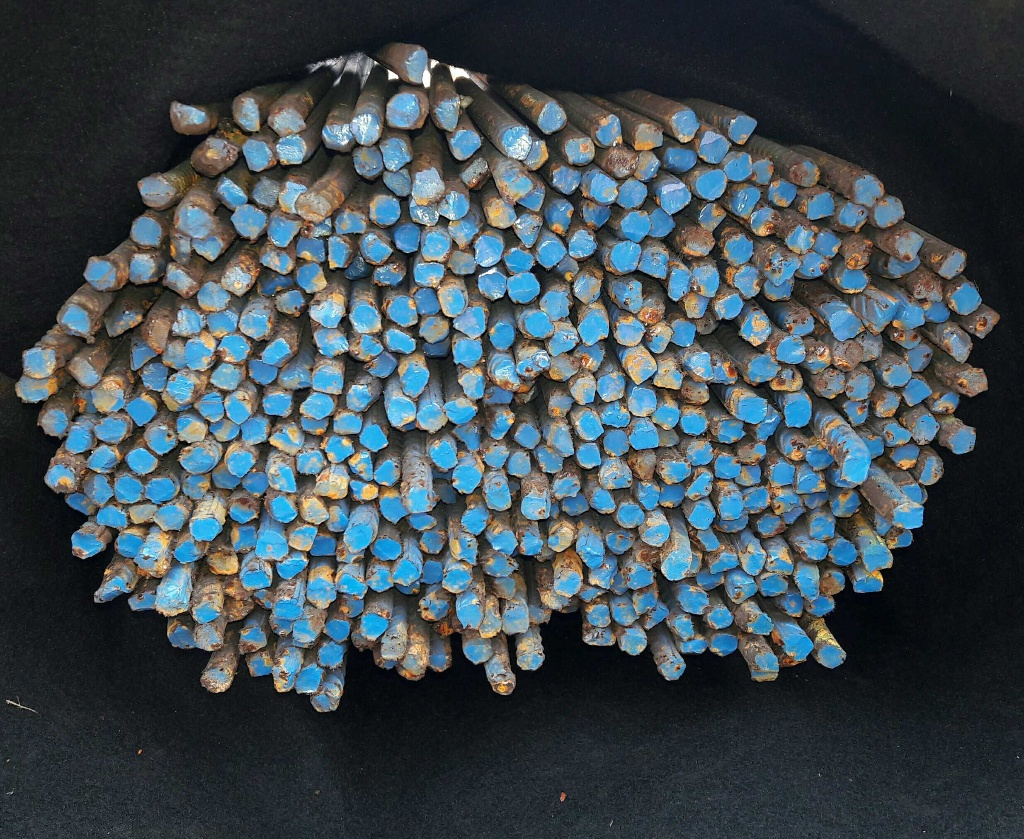dipstick: (189, 137, 236, 175), (56, 303, 92, 339), (170, 100, 206, 134), (412, 169, 445, 206), (138, 174, 176, 206), (232, 205, 267, 239), (766, 250, 801, 284), (175, 204, 211, 237), (575, 311, 609, 345), (268, 213, 301, 247), (164, 264, 197, 298), (386, 94, 419, 128), (584, 170, 617, 204), (105, 308, 144, 336), (15, 375, 58, 400), (399, 361, 428, 398), (547, 322, 579, 355), (215, 177, 246, 211), (268, 108, 305, 136), (293, 192, 330, 220), (698, 131, 730, 163), (243, 140, 276, 171), (359, 232, 392, 263), (740, 311, 771, 344), (21, 347, 55, 377), (380, 137, 410, 171), (843, 235, 873, 269), (867, 299, 897, 333), (309, 299, 344, 328), (516, 349, 551, 378), (91, 382, 123, 413), (179, 442, 211, 473), (460, 158, 491, 190), (853, 174, 884, 206), (844, 368, 875, 400), (680, 227, 714, 256), (232, 96, 260, 131), (314, 327, 349, 355), (85, 258, 116, 289), (607, 146, 638, 177), (677, 584, 708, 615), (831, 339, 862, 370), (82, 474, 112, 506), (453, 307, 485, 337), (323, 123, 355, 153), (546, 199, 573, 234), (482, 551, 518, 577), (271, 424, 302, 454), (369, 195, 400, 225), (450, 130, 481, 160), (696, 169, 726, 200), (734, 266, 764, 297), (764, 545, 795, 575), (949, 284, 980, 314), (256, 531, 288, 560), (830, 311, 862, 340), (515, 213, 543, 246), (276, 135, 306, 165), (130, 217, 160, 247), (387, 296, 417, 326), (68, 357, 99, 386), (353, 143, 382, 174), (409, 198, 440, 227), (486, 200, 517, 229), (563, 136, 594, 165), (622, 210, 651, 241), (876, 196, 905, 227), (197, 282, 229, 310), (145, 425, 177, 453), (45, 465, 77, 493), (438, 191, 470, 219), (640, 247, 668, 279), (803, 341, 831, 373), (746, 354, 779, 381), (145, 319, 171, 353), (184, 340, 213, 370), (420, 592, 449, 622), (509, 273, 539, 302), (617, 178, 646, 208), (661, 183, 690, 213), (166, 374, 197, 402), (224, 392, 252, 423), (474, 235, 502, 266), (351, 114, 379, 145), (611, 241, 639, 272), (957, 368, 988, 396), (206, 310, 238, 337), (217, 336, 249, 363), (374, 259, 406, 286), (504, 127, 531, 159), (260, 248, 293, 274), (299, 393, 333, 418), (349, 335, 383, 360), (138, 549, 167, 578), (437, 287, 466, 316), (540, 291, 569, 320), (628, 355, 657, 384), (660, 551, 689, 580), (783, 633, 812, 662), (872, 388, 901, 417), (261, 339, 291, 367), (157, 587, 187, 615), (301, 494, 329, 524), (350, 305, 380, 333), (449, 220, 479, 248), (451, 466, 481, 494), (538, 241, 568, 269), (750, 208, 780, 236), (816, 369, 844, 399), (895, 231, 923, 261), (943, 331, 971, 361), (279, 182, 306, 213), (221, 267, 252, 294), (71, 531, 102, 558), (501, 175, 532, 202), (594, 114, 621, 145), (770, 488, 801, 515), (663, 147, 696, 172), (436, 94, 458, 131), (313, 366, 342, 394), (388, 397, 416, 426), (538, 103, 566, 132), (729, 116, 757, 145), (724, 235, 753, 263), (786, 224, 814, 253), (938, 250, 966, 279), (127, 398, 157, 425), (317, 470, 347, 497), (323, 436, 353, 463), (380, 495, 407, 525), (616, 282, 643, 312), (902, 344, 932, 371), (126, 448, 157, 474), (366, 351, 397, 377), (522, 311, 553, 337), (668, 268, 692, 301), (173, 308, 201, 336), (66, 426, 94, 454), (228, 449, 256, 477), (308, 579, 336, 607), (268, 465, 296, 493), (575, 412, 603, 440), (732, 188, 760, 216), (840, 201, 868, 229), (831, 490, 859, 518), (297, 264, 326, 291), (269, 496, 298, 523), (419, 315, 448, 342), (453, 339, 482, 366), (422, 232, 449, 261), (554, 568, 581, 597), (583, 199, 610, 228), (814, 230, 841, 259), (739, 397, 768, 424), (727, 576, 756, 603), (177, 416, 207, 442), (229, 497, 259, 523), (343, 525, 373, 551), (405, 488, 435, 514), (327, 237, 353, 267), (335, 208, 365, 234), (489, 410, 515, 440), (671, 111, 697, 141), (692, 266, 718, 296), (129, 253, 154, 284), (201, 667, 232, 692), (190, 517, 222, 541), (770, 368, 803, 391), (197, 393, 224, 421), (88, 446, 116, 473), (114, 476, 142, 503), (597, 373, 624, 401), (553, 166, 580, 194), (725, 152, 752, 180), (616, 319, 644, 346), (777, 336, 805, 363), (629, 388, 656, 416), (903, 379, 931, 406), (806, 443, 834, 470), (947, 426, 975, 453), (239, 313, 268, 339), (130, 340, 156, 369), (415, 262, 444, 288), (504, 246, 533, 272), (451, 535, 477, 564), (521, 494, 550, 520), (577, 539, 603, 568), (634, 151, 660, 180), (863, 544, 892, 570), (890, 442, 919, 468), (211, 463, 241, 488), (208, 550, 238, 575), (445, 399, 475, 424), (385, 328, 415, 353), (549, 427, 574, 457), (600, 402, 630, 427), (647, 323, 672, 353), (794, 538, 828, 560), (94, 418, 126, 441), (600, 465, 632, 488), (430, 440, 457, 467), (418, 404, 445, 431), (485, 483, 512, 510), (461, 508, 488, 535), (699, 203, 726, 230), (769, 180, 796, 207), (743, 487, 770, 514), (114, 532, 142, 558), (289, 525, 317, 551), (337, 572, 365, 598), (360, 425, 388, 451), (414, 286, 440, 314), (634, 122, 662, 148), (756, 513, 784, 539), (841, 456, 867, 484), (210, 364, 239, 389), (790, 161, 819, 186), (687, 352, 712, 381), (752, 652, 777, 681), (242, 566, 272, 590), (395, 222, 419, 252), (524, 141, 548, 171), (661, 459, 691, 483), (406, 48, 427, 82), (153, 506, 184, 529), (892, 503, 923, 526), (245, 650, 272, 676), (479, 273, 506, 299), (551, 353, 578, 379), (481, 441, 508, 467), (569, 230, 595, 257), (689, 503, 715, 530), (275, 288, 303, 313), (230, 527, 258, 552), (765, 276, 793, 301), (913, 415, 938, 443), (143, 362, 167, 391), (193, 625, 222, 649), (238, 627, 267, 651), (293, 617, 322, 641), (262, 393, 291, 417), (491, 322, 515, 351), (882, 362, 911, 386), (210, 418, 240, 441), (574, 276, 600, 302), (688, 472, 714, 498), (787, 311, 813, 337), (168, 623, 195, 648), (490, 530, 517, 555), (553, 472, 580, 497), (785, 400, 810, 427), (617, 503, 644, 528), (249, 359, 277, 383), (297, 238, 325, 262), (587, 564, 615, 588), (896, 306, 924, 330), (919, 456, 943, 484), (145, 478, 174, 501), (97, 507, 126, 530), (310, 688, 339, 711), (442, 569, 471, 592), (350, 452, 373, 481), (805, 593, 834, 616), (583, 626, 616, 646), (43, 409, 68, 435), (362, 614, 388, 639), (367, 568, 393, 593), (375, 459, 400, 485), (345, 385, 371, 410), (571, 378, 596, 404), (649, 209, 674, 235), (808, 192, 833, 218), (740, 549, 765, 575), (809, 516, 835, 541), (830, 540, 856, 565), (461, 372, 485, 399), (671, 318, 695, 345), (975, 310, 999, 337), (193, 600, 221, 623), (547, 528, 575, 551), (605, 531, 634, 553), (796, 471, 825, 493), (640, 524, 670, 545), (456, 603, 481, 628), (503, 608, 528, 633), (604, 430, 629, 455), (297, 450, 323, 474), (393, 560, 419, 584), (653, 405, 679, 429), (626, 566, 652, 590), (715, 294, 742, 317), (630, 426, 657, 449), (719, 494, 742, 521), (654, 367, 682, 389), (680, 413, 708, 435), (818, 645, 846, 667), (760, 573, 788, 595), (372, 538, 401, 559), (273, 600, 303, 620), (349, 479, 379, 499), (549, 392, 573, 417), (516, 423, 541, 447), (576, 442, 601, 466), (735, 443, 765, 463), (244, 472, 270, 495), (449, 250, 475, 273), (591, 487, 614, 513), (717, 420, 743, 443), (326, 505, 348, 532), (489, 577, 516, 599), (883, 424, 910, 446), (418, 532, 446, 553), (638, 481, 659, 509), (296, 669, 320, 693), (317, 642, 341, 666), (612, 602, 636, 626), (621, 630, 645, 654), (324, 619, 349, 642), (490, 672, 515, 695), (841, 269, 866, 292), (686, 442, 712, 464), (715, 456, 741, 478), (711, 634, 737, 656), (174, 541, 201, 562), (508, 452, 530, 477), (520, 531, 542, 556), (932, 393, 958, 414), (332, 414, 360, 433), (632, 589, 655, 612), (821, 572, 844, 595), (382, 638, 406, 660), (586, 604, 610, 626), (660, 658, 684, 680), (310, 535, 336, 555), (753, 158, 773, 184), (747, 614, 773, 634), (465, 643, 492, 662), (710, 553, 737, 572), (519, 647, 542, 669), (268, 614, 292, 635), (708, 607, 732, 628), (674, 614, 693, 640), (797, 576, 818, 598), (770, 465, 793, 485), (423, 560, 442, 584), (428, 654, 453, 671), (854, 577, 881, 591)
